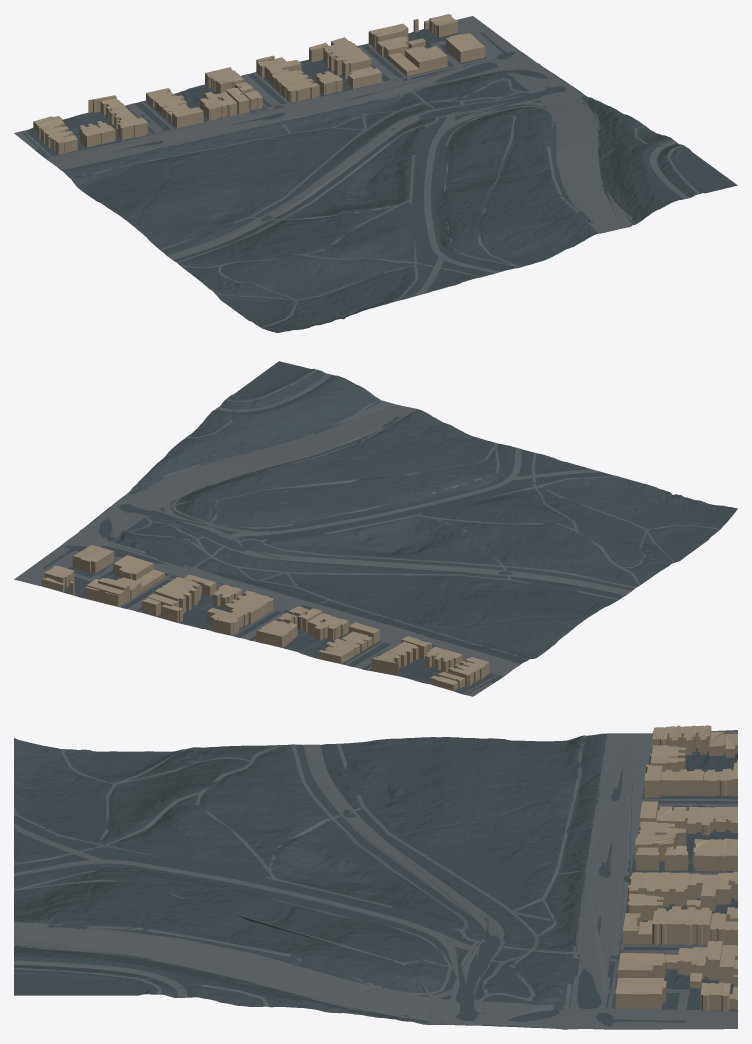
Rendered from epsg26910-1421-10885.lod0.glb.
The picture shows the model from 3 angles, top to bottom: view 1: azimuth 30°, elevation 25°; view 2: azimuth 150°, elevation 25°; view 3: azimuth 270°, elevation 25°; orthographic projection. The views are drawn at different scales.
Visible parts, largest first — view 1: epsg26910-1421-10885-lod0; view 2: epsg26910-1421-10885-lod0; view 3: epsg26910-1421-10885-lod0.
Part boxes in pixels (x1,y1,x2,y2): epsg26910-1421-10885-lod0: (14, 14, 737, 332); epsg26910-1421-10885-lod0: (14, 361, 737, 696); epsg26910-1421-10885-lod0: (14, 725, 737, 1029).
Size of the model in its own units: 384 by 37.28 by 384.
